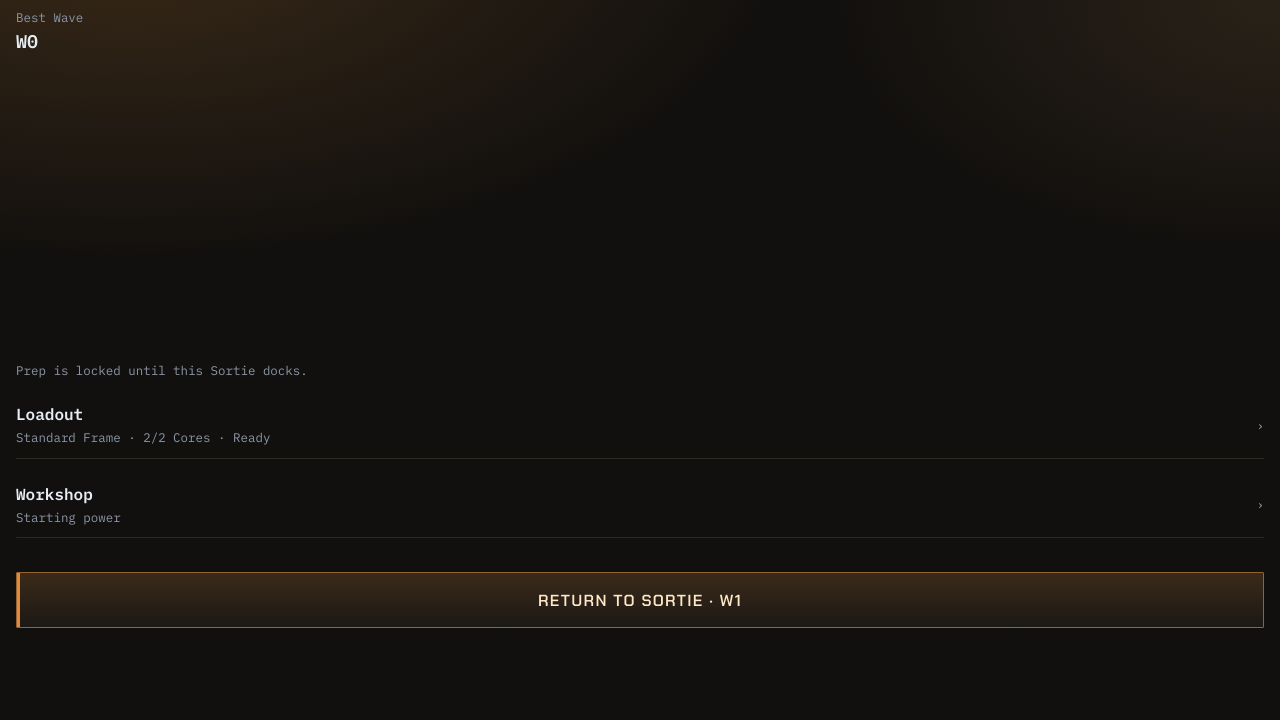
UI/UX pass regression › locks Dock loadout copy while a Sortie is live
The image size is (1280, 720).
Expected: the text "Prep is locked until this Sortie docks." is shown, [16,362,308,378]
Expected: the button "Return to Sortie · W1" is shown, [16,572,1264,628]
Click the button "Loadout Standard Frame · 2/2 Cores · Ready ›" at x=50, y=414, box [16,391,1264,459]
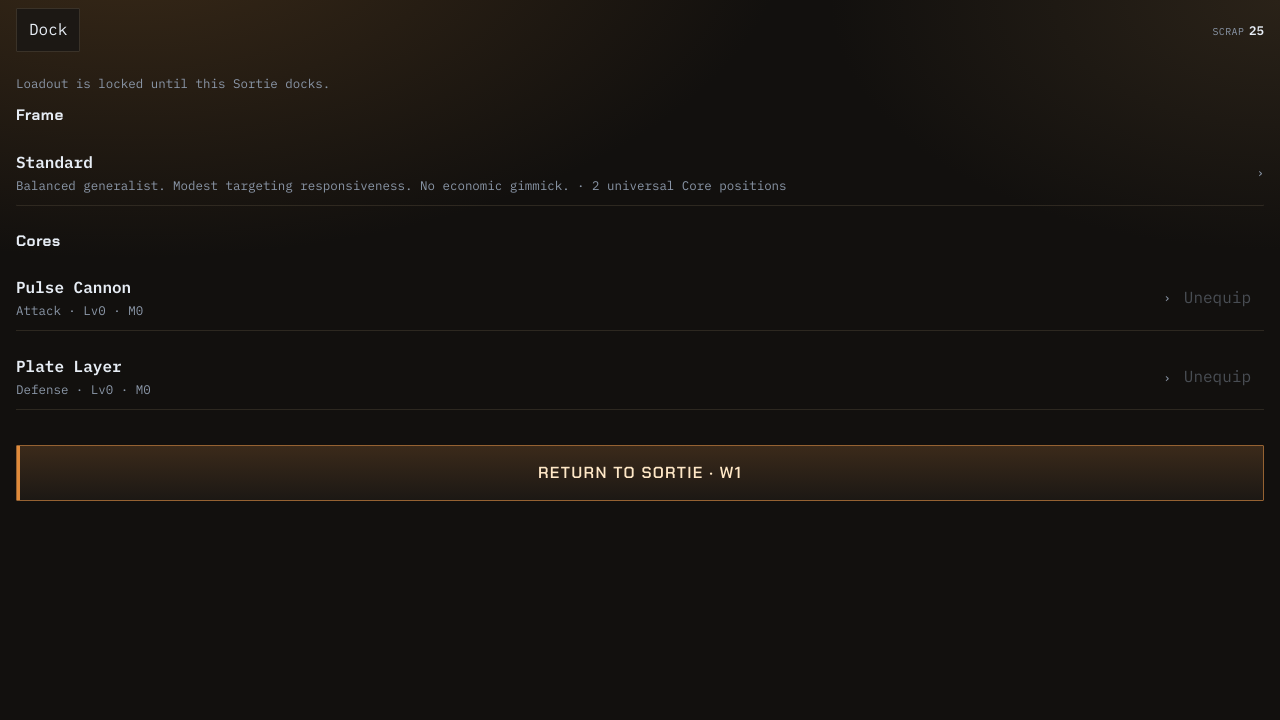
Expected: the text "Loadout is locked until this Sortie docks." is shown, [16,75,330,91]
